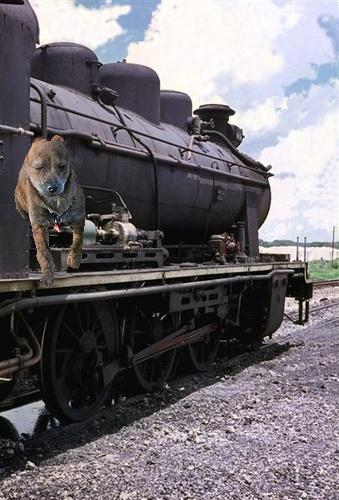tampered: (15, 136, 85, 286)
